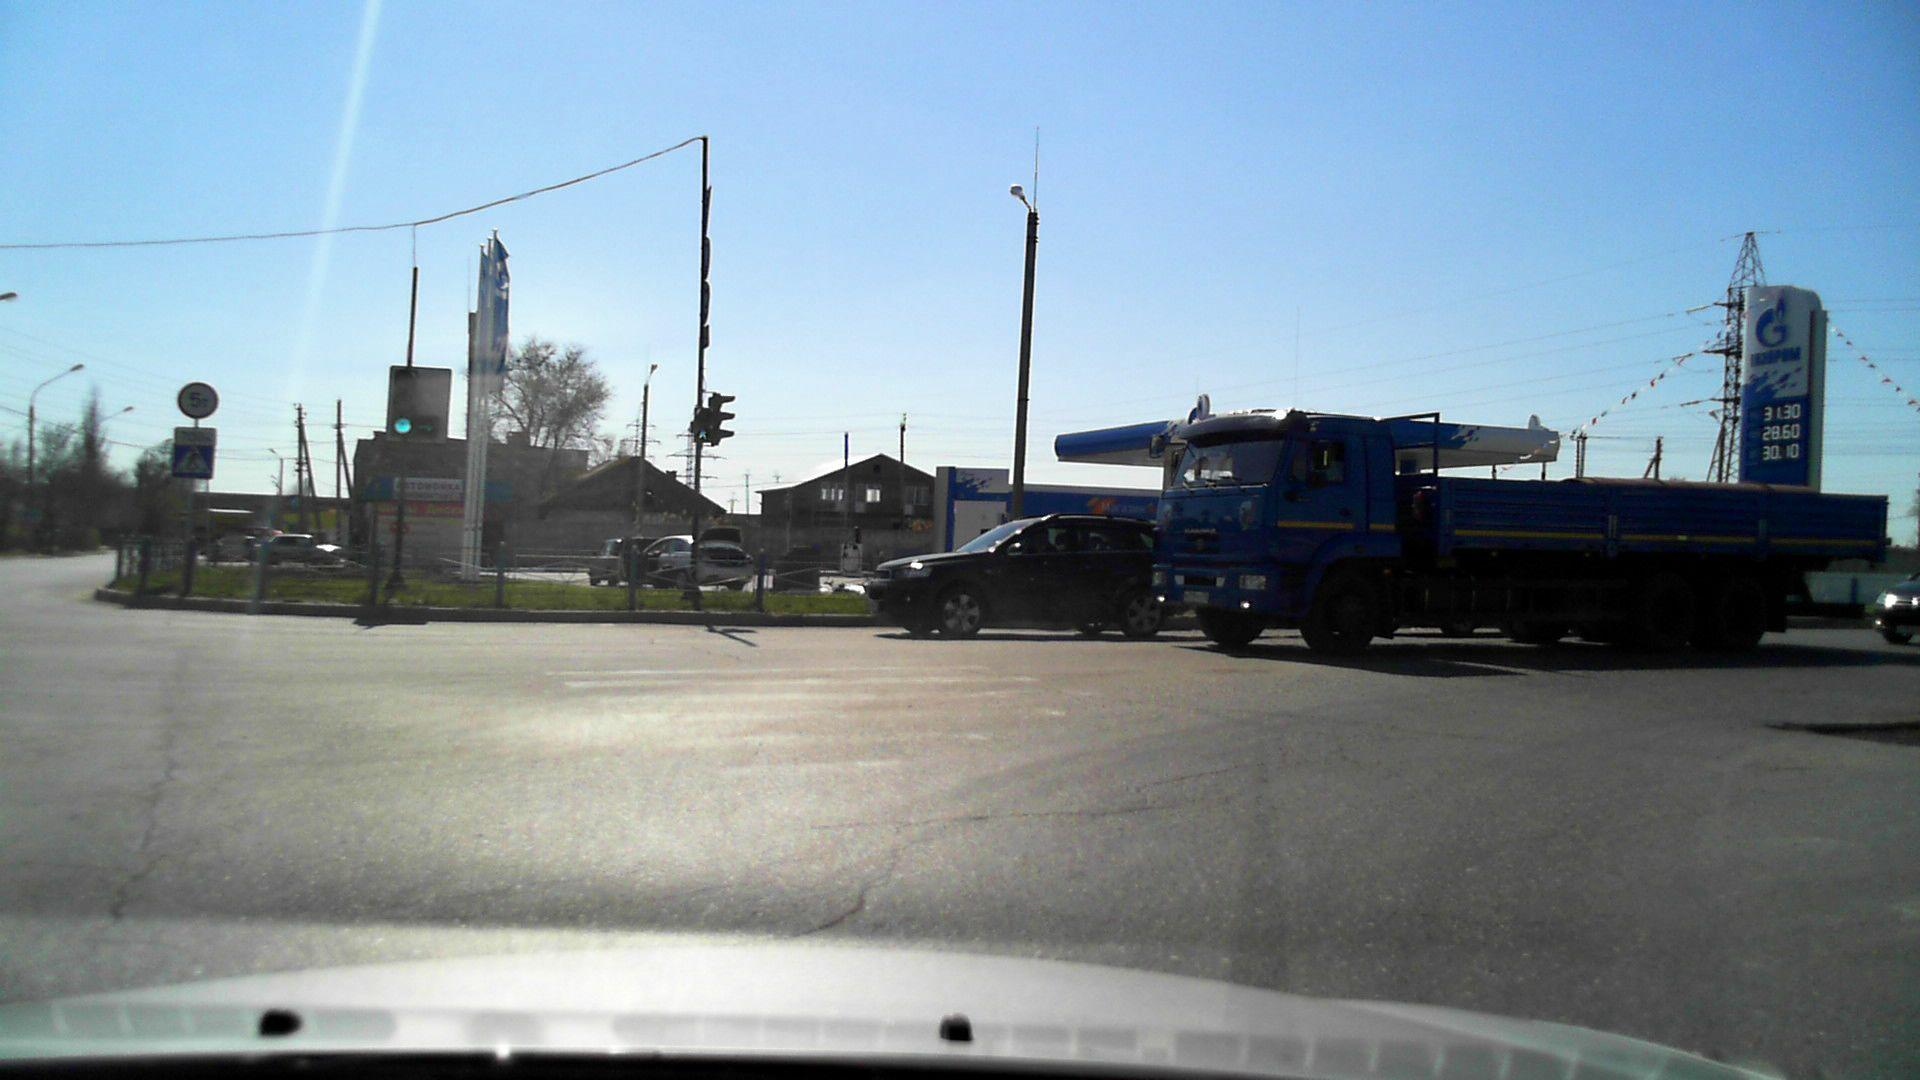3_11: (177, 380, 223, 419)
5_19_1: (175, 446, 214, 480)
8_1_1: (174, 425, 216, 447)
